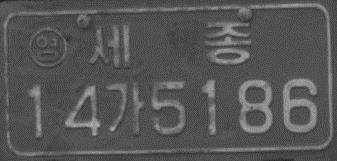1: (25, 82, 49, 141), (200, 78, 223, 137)
4: (61, 82, 105, 137)
5: (148, 77, 188, 137)
6: (281, 76, 319, 134)
8: (235, 78, 274, 136)
가: (104, 80, 147, 137)
세종_D: (86, 18, 254, 69)
영: (29, 25, 69, 68)
